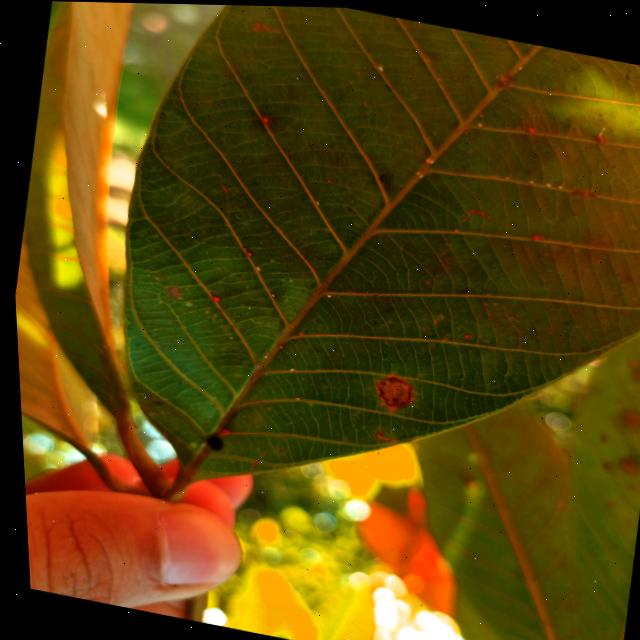Colletotrichum: (198, 431, 221, 452)
Leaf-Blight: (373, 374, 407, 407)
